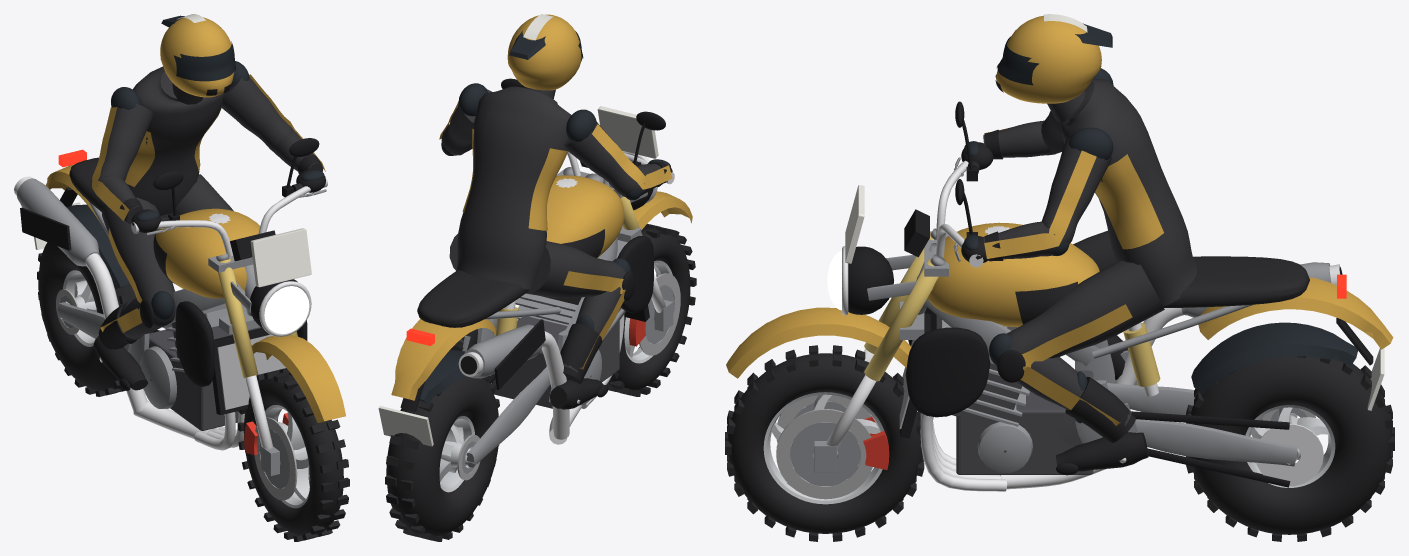
Rendered from bike_driftwood.glb.
3 views of the same model, side by side, from view 1: azimuth 30°, elevation 25°; view 2: azimuth 150°, elevation 25°; view 3: azimuth 270°, elevation 25° (orthographic). The views are drawn at different scales.
Parts seen in each view (by area): view 1: Body, WheelMesh_Wheel_Front, WheelMesh_Wheel_Rear; view 2: Body, WheelMesh_Wheel_Rear, WheelMesh_Wheel_Front; view 3: Body, WheelMesh_Wheel_Front, WheelMesh_Wheel_Rear.
Boxes of the visible parts, x1,y1,x2,y2 form: Body: (14,14,345,475); WheelMesh_Wheel_Front: (237,368,349,541); WheelMesh_Wheel_Rear: (37,242,153,396); Body: (378,14,692,467); WheelMesh_Wheel_Rear: (385,375,499,541); WheelMesh_Wheel_Front: (606,223,696,396); Body: (726,14,1393,491); WheelMesh_Wheel_Front: (725,345,924,541); WheelMesh_Wheel_Rear: (1186,356,1394,541).
Size of the model in its own units: 0.9771 by 1.99 by 2.34.
